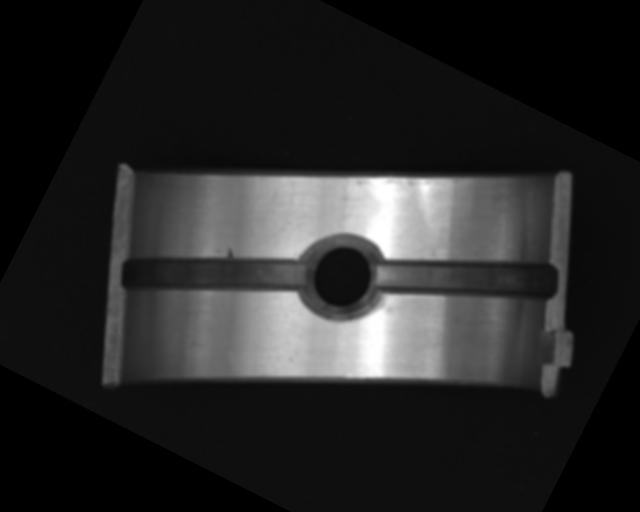bruise: (223, 245, 239, 261)
gap: (116, 191, 310, 357), (370, 195, 563, 358)
hole: (290, 222, 393, 329)
